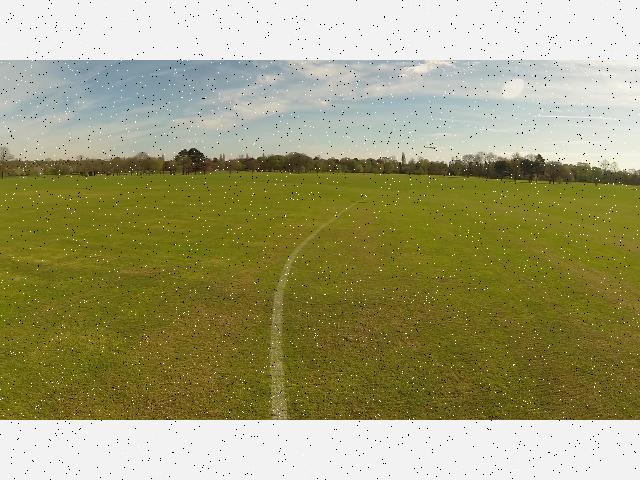Anti-Drone: (423, 142, 447, 154)
